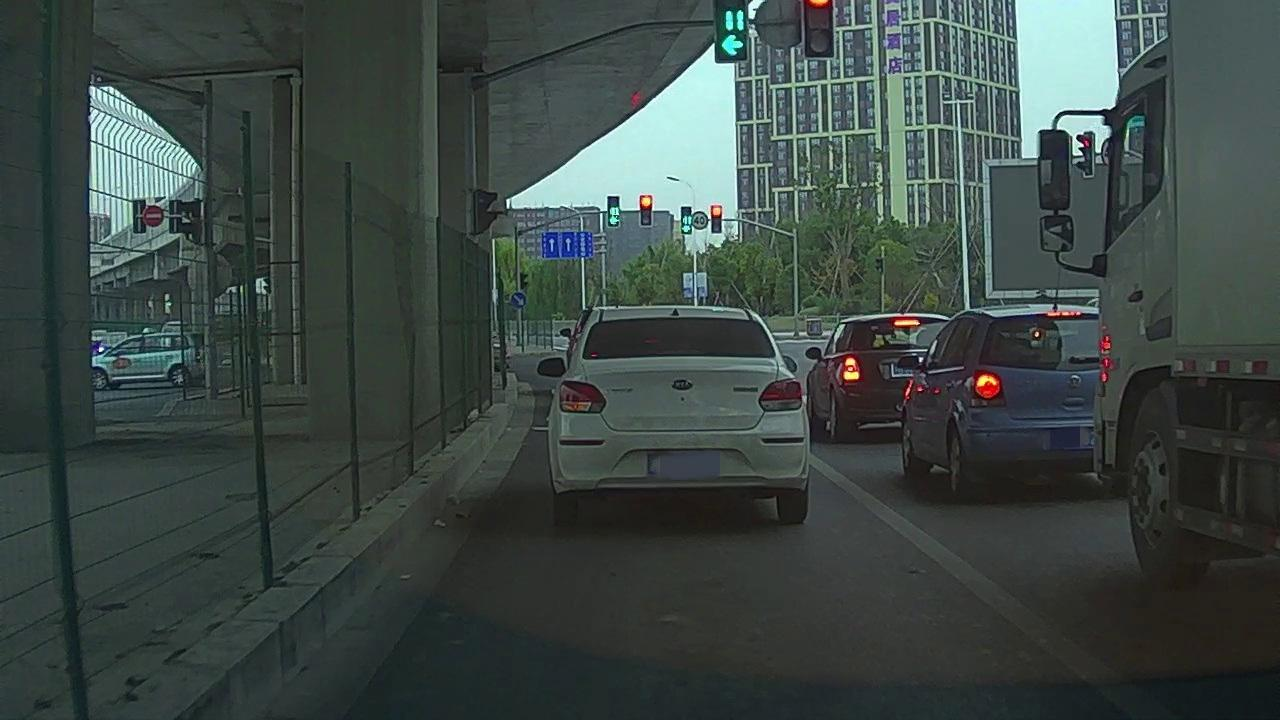traffic_light: (714, 2, 748, 60), (805, 2, 834, 55), (609, 193, 622, 224), (641, 197, 651, 223), (682, 207, 691, 232), (713, 208, 722, 232)
